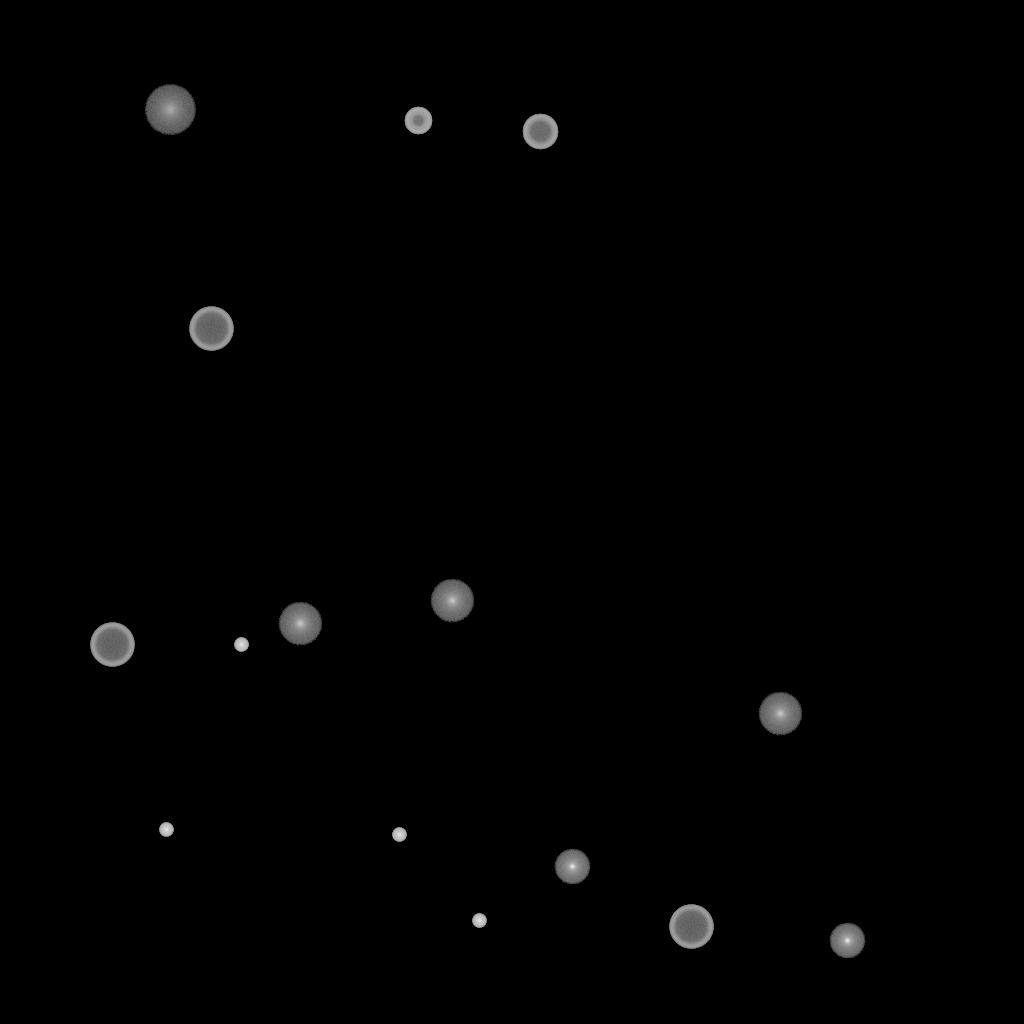depth:-30: (159, 823, 173, 837), (472, 914, 486, 928), (392, 828, 406, 842), (234, 638, 248, 652)
depth:-50: (404, 107, 432, 135)
depth:-60: (522, 114, 558, 150)
depth:-70: (189, 307, 233, 351), (669, 905, 713, 949), (90, 623, 134, 667)
depth:0: (554, 849, 590, 885), (829, 923, 865, 959)
depth:10: (758, 692, 802, 736), (430, 579, 474, 623), (278, 602, 322, 646)
depth:20: (144, 85, 196, 135)
